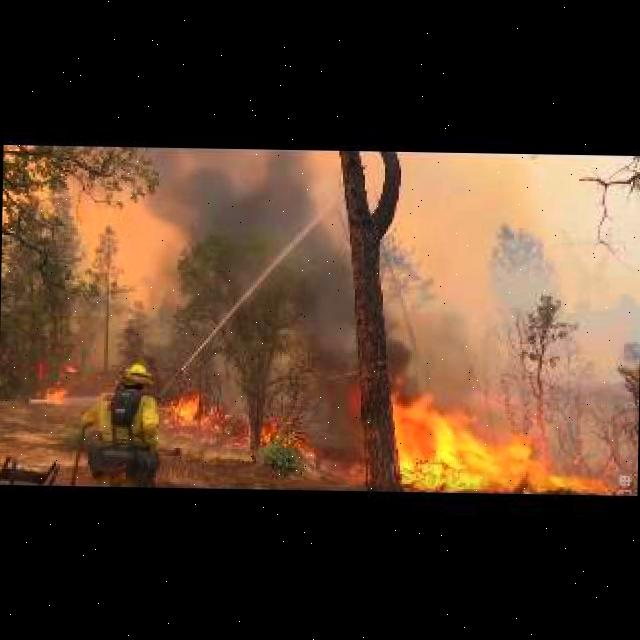fire: (146, 152, 358, 417), (385, 385, 613, 489), (164, 383, 316, 462), (38, 375, 71, 408), (63, 360, 75, 370)
